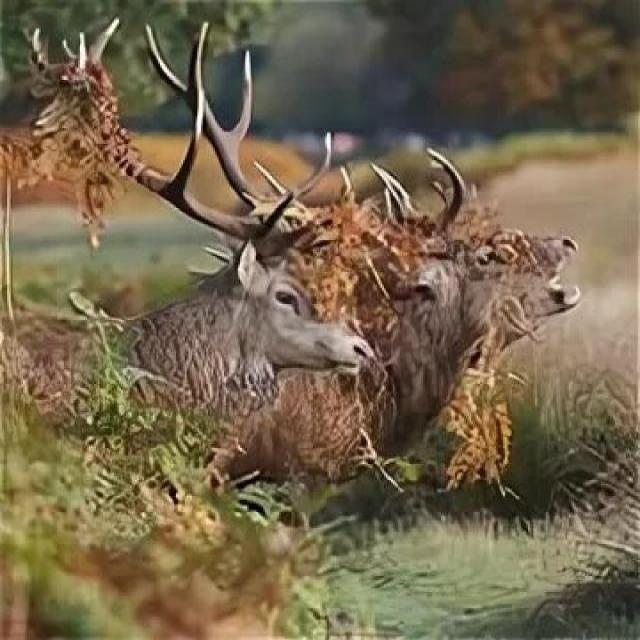deer: (0, 173, 393, 614)
